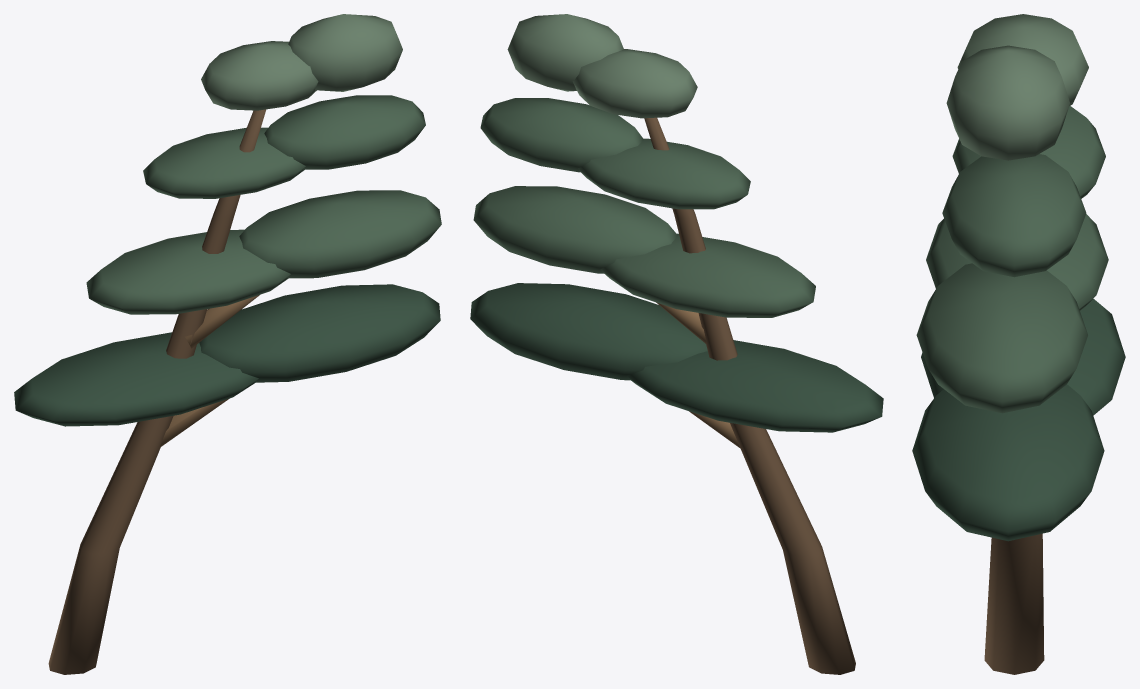
Rendered from coast_cypress.glb.
3 views of the same model, side by side, from view 1: azimuth 30°, elevation 25°; view 2: azimuth 150°, elevation 25°; view 3: azimuth 270°, elevation 25° (orthographic). The views are drawn at different scales.
Parts seen in each view (by area): view 1: coast_cypress; view 2: coast_cypress; view 3: coast_cypress.
Boxes of the visible parts, bbox=[...] form: coast_cypress: bbox=[14, 14, 441, 674]; coast_cypress: bbox=[470, 14, 883, 674]; coast_cypress: bbox=[912, 14, 1125, 674].
Bounding box in the file's own units: 4.32 × 5.8 × 1.43.
